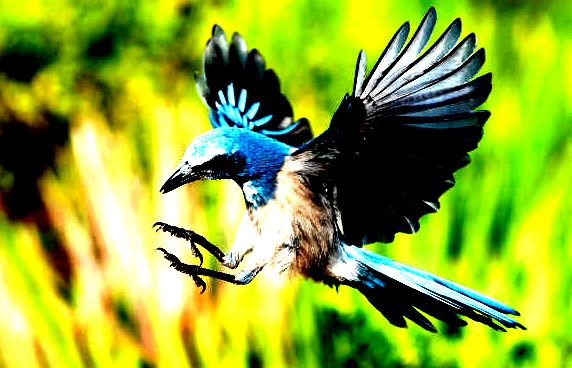Bird: (147, 4, 529, 335)
